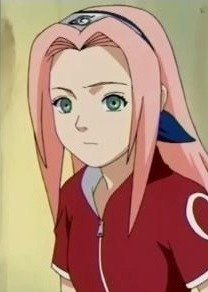sakura: (46, 10, 168, 170)
